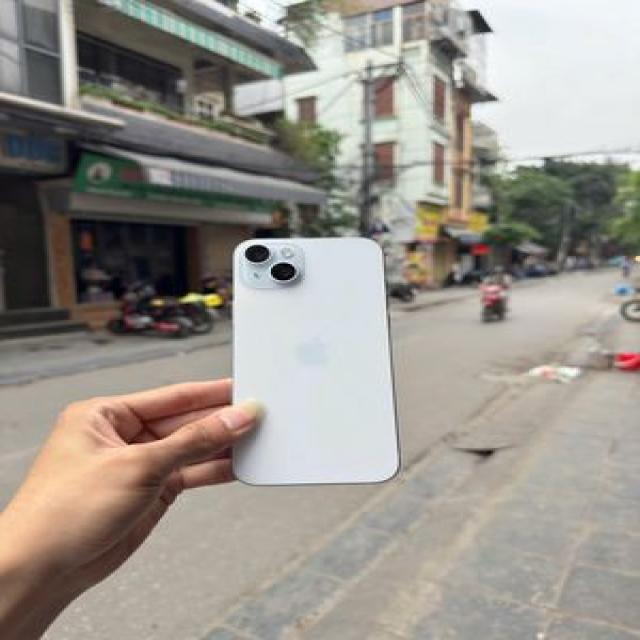gen_15: (215, 224, 407, 495)
